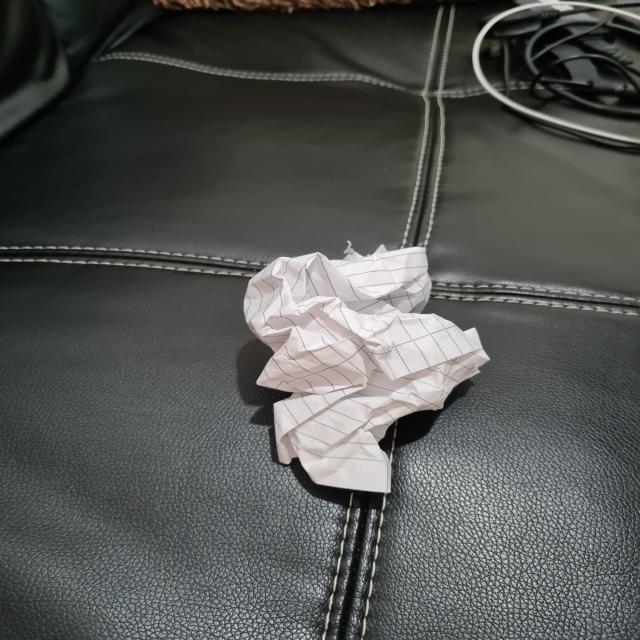Paper: (246, 249, 499, 498)
